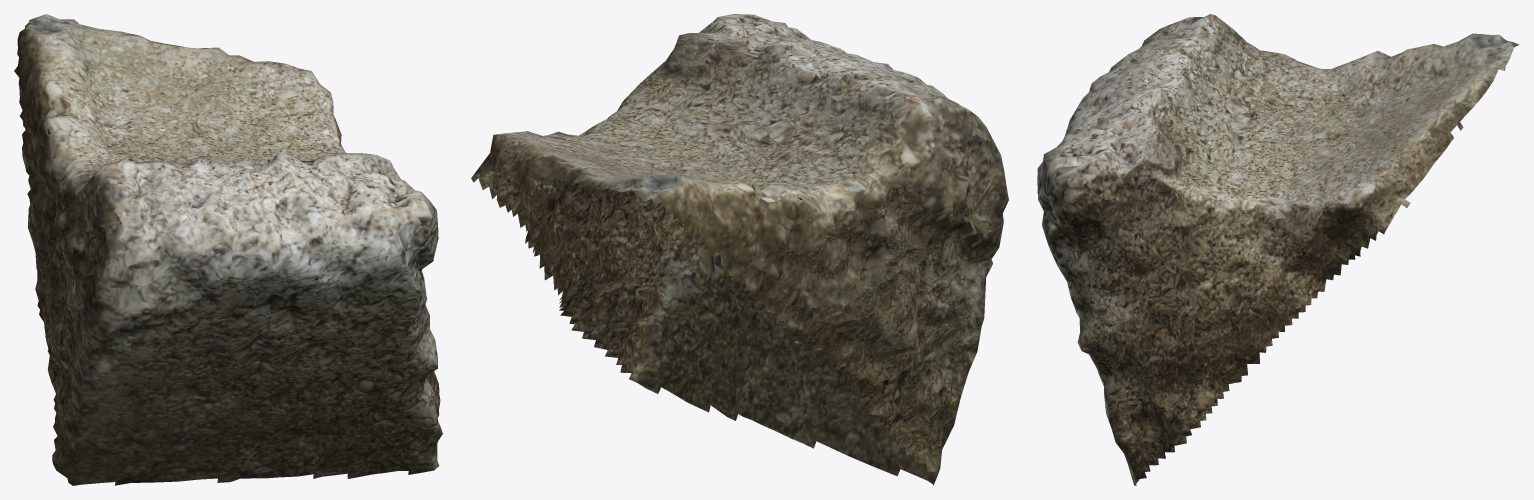
The picture shows the model from 3 angles, left to right: view 1: azimuth 30°, elevation 25°; view 2: azimuth 150°, elevation 25°; view 3: azimuth 270°, elevation 25°; orthographic projection. The views are drawn at different scales.
Parts seen in each view (by area): view 1: Fragment of Concrete; view 2: Fragment of Concrete; view 3: Fragment of Concrete.
Boxes of the visible parts, bbox=[...] form: Fragment of Concrete: bbox=[14, 14, 442, 485]; Fragment of Concrete: bbox=[471, 14, 1008, 485]; Fragment of Concrete: bbox=[1037, 14, 1519, 485].
Size of the model in its own units: 0.9488 by 0.8979 by 1.12.
1 material, 1 textured.
